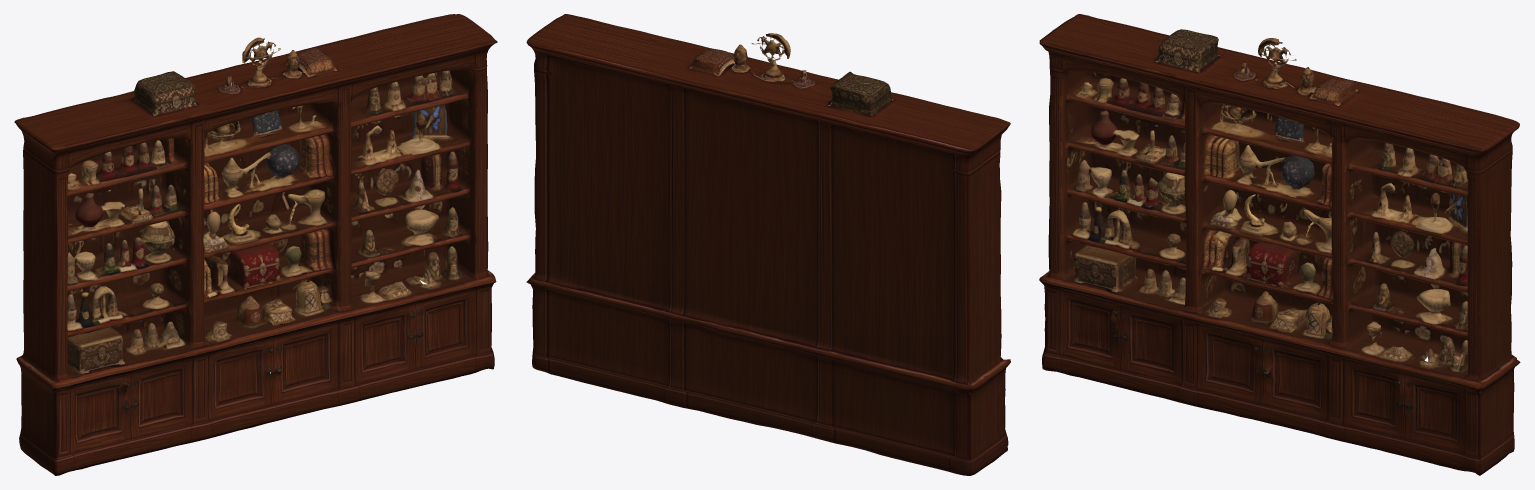
File: ornate-cabinet.glb
The picture shows the model from 3 angles, left to right: view 1: azimuth 30°, elevation 25°; view 2: azimuth 150°, elevation 25°; view 3: azimuth 330°, elevation 25°; orthographic projection.
Parts seen in each view (by area): view 1: tripo_node_a40a8474; view 2: tripo_node_a40a8474; view 3: tripo_node_a40a8474.
Boxes of the visible parts, x1=… form: tripo_node_a40a8474: x1=14, y1=14, x2=497, y2=475; tripo_node_a40a8474: x1=526, y1=14, x2=1010, y2=475; tripo_node_a40a8474: x1=1039, y1=14, x2=1520, y2=475.
Bounding box in the file's own units: 97.48 × 77.7 × 15.64.
1 material, 1 textured.
